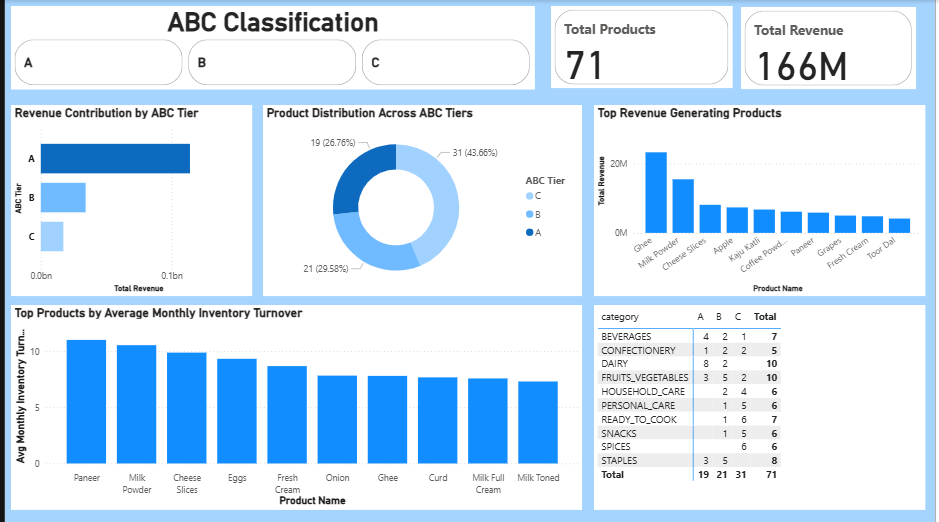

Layout of this report page (visuals, bound fields, positions):
{"tool":"powerbi","page":{"name":"ABC","canvas":[1280,720],"ordinal":1},"visuals":[{"type":"shape","box":[257,503.9,473.7,89],"z":0},{"type":"cardVisual","fields":{"Data":["CountNonNull(gold v_abc_product.abc_category)"]},"box":[750.9,8.8,249.8,113.1],"z":1000},{"type":"cardVisual","fields":{"Data":["Sum(gold v_abc_product.total_revenue)"]},"box":[1012.4,10.3,241,113.1],"z":2000},{"type":"advancedSlicerVisual","title":"ABC Classification","fields":{"Values":["gold v_abc_product.abc_category"]},"box":[8.8,8.8,721.5,114.6],"z":3000},{"type":"columnChart","title":"Top Revenue Generating Products","fields":{"Category":["gold v_abc_product.product_name"],"Y":["Sum(gold v_abc_product.total_revenue)"]},"box":[811.1,144,455.5,263],"z":4000},{"type":"barChart","title":"Revenue Contribution by ABC Tier","fields":{"Category":["gold v_abc_product.abc_category"],"Y":["Sum(gold v_abc_product.total_revenue)"]},"box":[8.8,144,332.1,263],"z":5000},{"type":"columnChart","title":"Top Products by Average Monthly Inventory Turnover","fields":{"Category":["gold v_abc_product.product_name"],"Y":["Avg(gold v_monthly_turnover.monthly_turnover)"]},"box":[8.8,420.2,786.1,282.1],"z":6000},{"type":"pivotTable","fields":{"Rows":["gold dim_product.category"],"Columns":["gold v_abc_product.abc_category"],"Values":["CountNonNull(gold v_abc_product.product_key)"]},"box":[811.1,420.2,455.5,282.1],"z":7000},{"type":"donutChart","title":"Product Distribution Across ABC Tiers","fields":{"Category":["gold v_abc_product.abc_category"],"Y":["CountNonNull(gold v_abc_product.product_key)"]},"box":[355.6,144,439.3,263],"z":8000}]}

Visuals, with their boxes in screenshot pixels (x1, y1, x2, y2), scaled from the page's 1280x720 canvas onto the 939x522 screenshot:
shape: 189,365,536,430
cardVisual - CountNonNull(gold v_abc_product.abc_category): 551,6,734,88
cardVisual - Sum(gold v_abc_product.total_revenue): 743,7,919,89
"ABC Classification" advancedSlicerVisual: 6,6,536,89
"Top Revenue Generating Products" columnChart: 595,104,929,295
"Revenue Contribution by ABC Tier" barChart: 6,104,250,295
"Top Products by Average Monthly Inventory Turnover" columnChart: 6,305,583,509
pivotTable - gold dim_product.category x gold v_abc_product.abc_category: 595,305,929,509
"Product Distribution Across ABC Tiers" donutChart: 261,104,583,295
